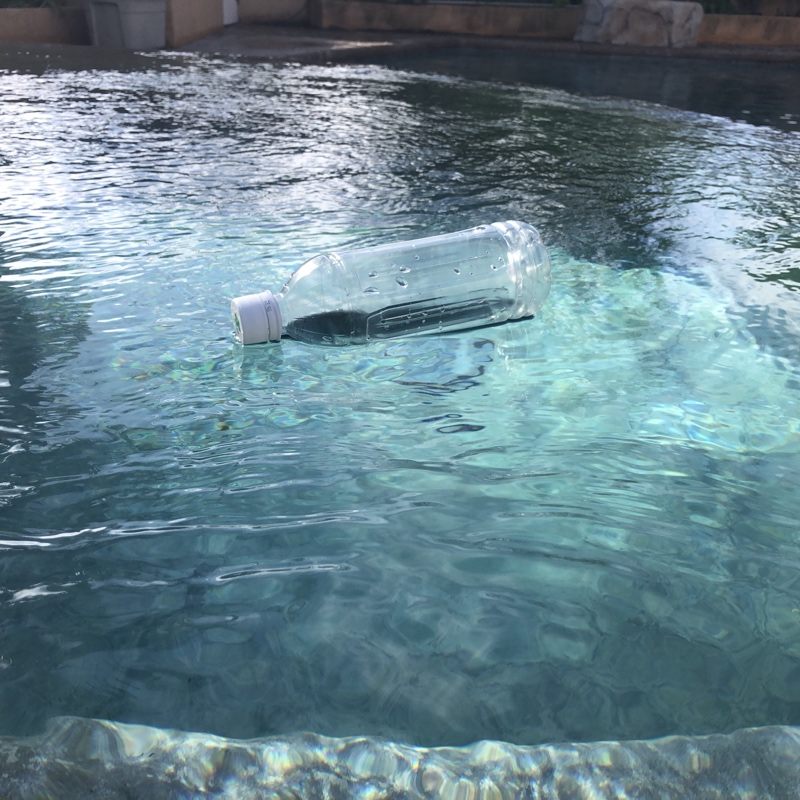Plastic Bottle: (227, 215, 555, 351)
